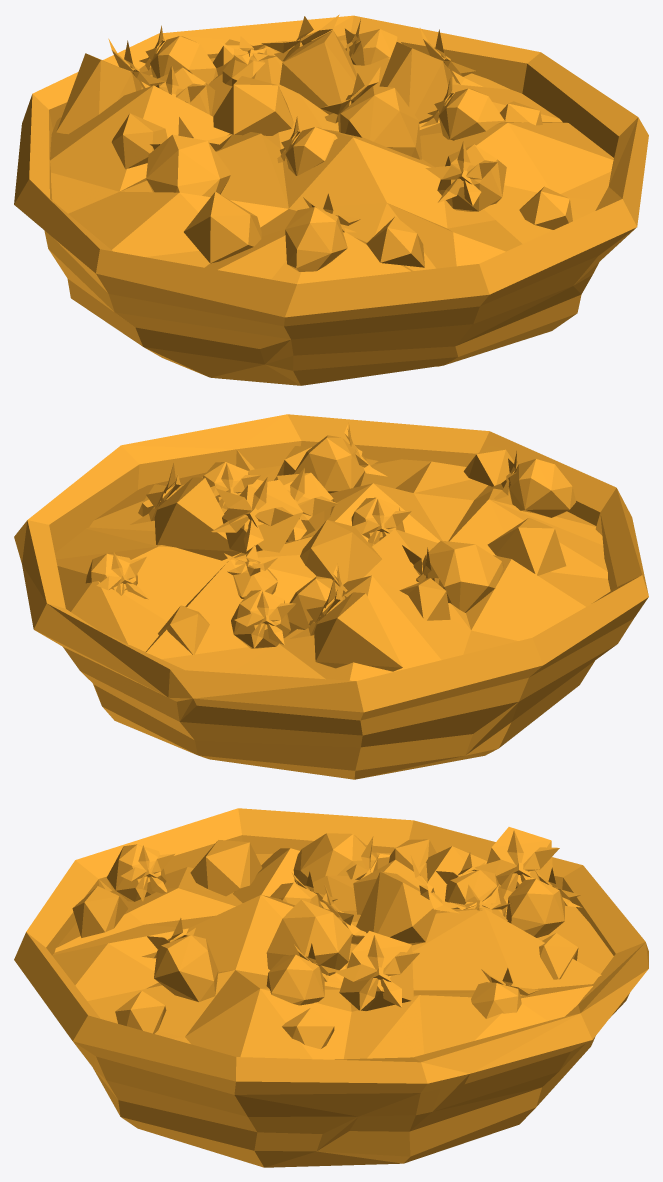
The model's file is SM_Crate_Wicker_Round_Strawberies_Fantasy.fbx.
3 views of the same model, one above another, from view 1: azimuth 30°, elevation 25°; view 2: azimuth 150°, elevation 25°; view 3: azimuth 270°, elevation 25° (orthographic). The views are drawn at different scales.
Visible parts, largest first — view 1: crate-wicker-round-strawberies-fantasy; view 2: crate-wicker-round-strawberies-fantasy; view 3: crate-wicker-round-strawberies-fantasy.
Part boxes in pixels (x1,y1,x2,y2): crate-wicker-round-strawberies-fantasy: [14, 14, 648, 385]; crate-wicker-round-strawberies-fantasy: [14, 414, 648, 779]; crate-wicker-round-strawberies-fantasy: [14, 808, 648, 1167].
Size of the model in its own units: 0.4757 by 0.1963 by 0.4954.
